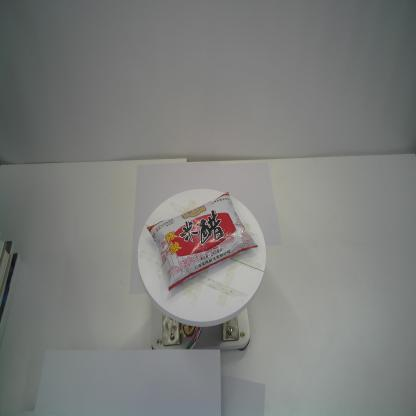Seasoner: (145, 190, 259, 295)
